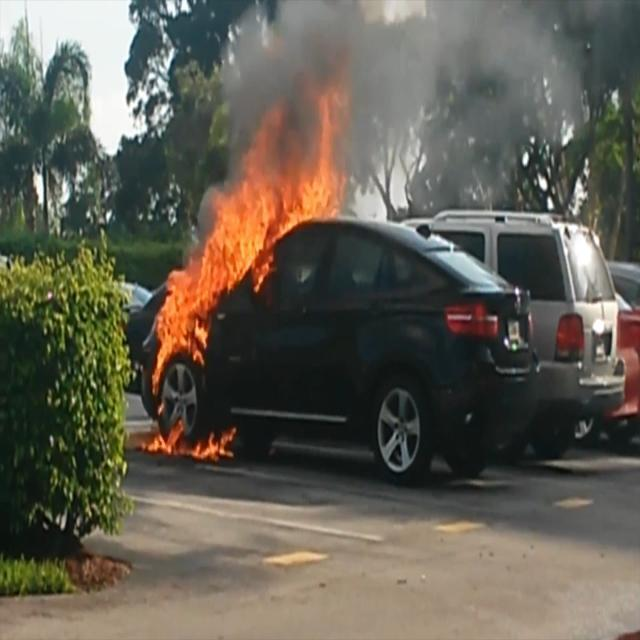fire: (135, 120, 346, 460)
